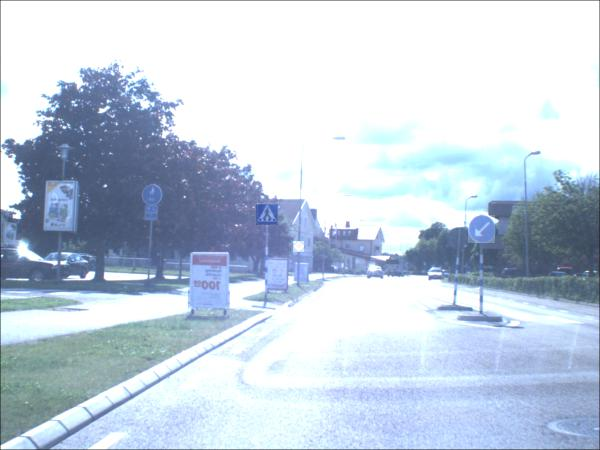PASS_RIGHT_SIDE: (468, 216, 496, 245)
PEDESTRIAN_CROSSING: (256, 205, 279, 227)
PRIORITY_ROAD: (293, 242, 305, 254)
